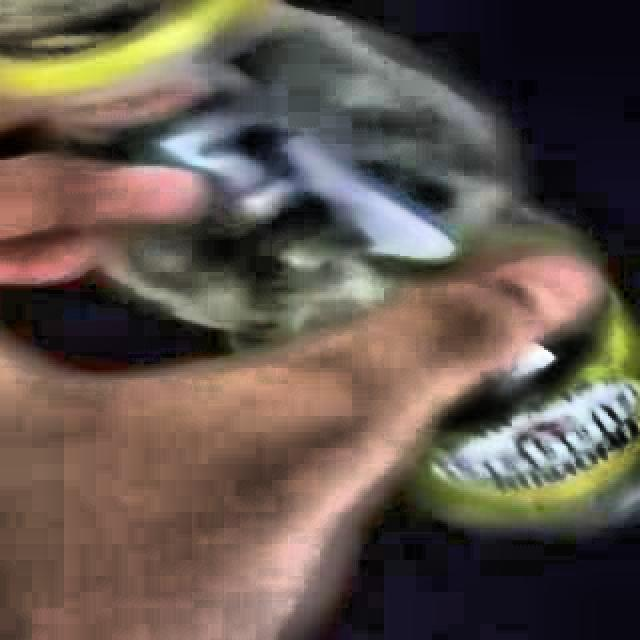plastic: (411, 300, 640, 527)
